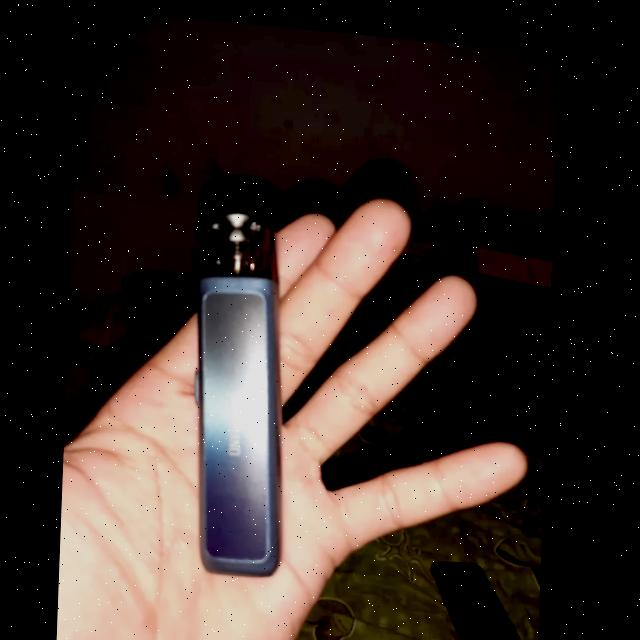vape: (187, 201, 294, 573)
